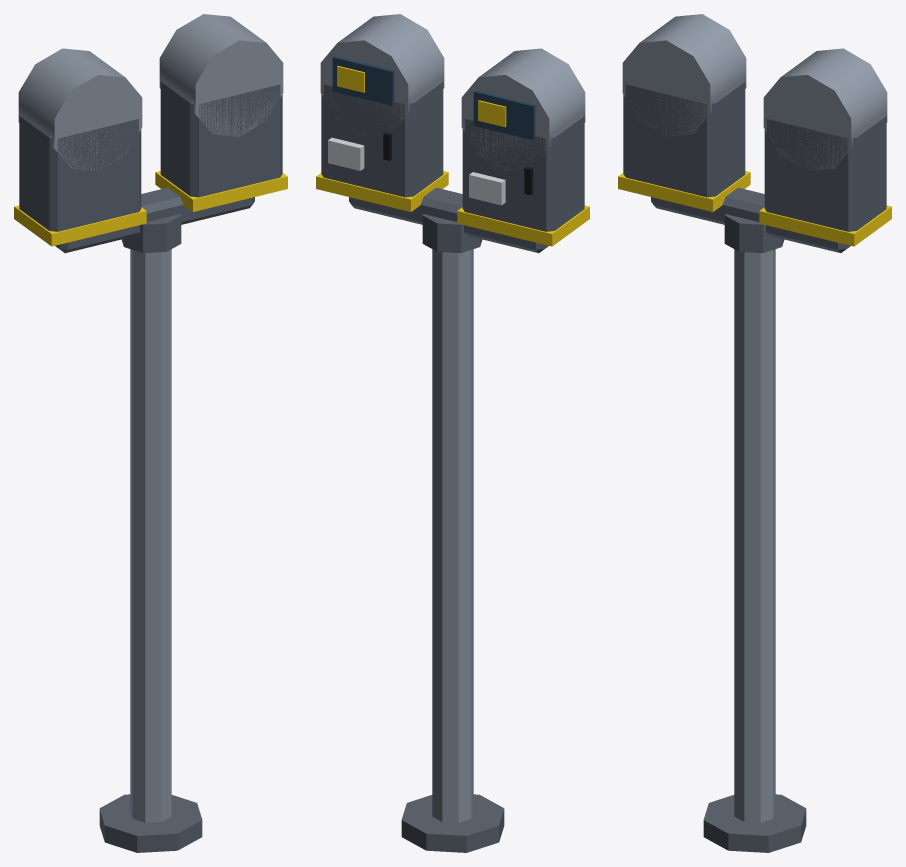
The model's file is parking_meter.glb.
3 renders of one model, left to right at view 1: azimuth 30°, elevation 25°; view 2: azimuth 150°, elevation 25°; view 3: azimuth 330°, elevation 25°, orthographic.
Visible parts, largest first — view 1: parking_meter; view 2: parking_meter; view 3: parking_meter.
Part boxes in pixels (bbox=[...]): parking_meter: bbox=[14, 14, 287, 852]; parking_meter: bbox=[316, 14, 589, 852]; parking_meter: bbox=[618, 14, 891, 852].
Size of the model in its own units: 0.435 by 1.38 by 0.17.
